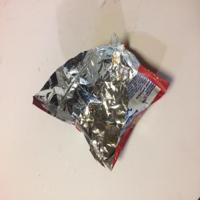plastic: (31, 31, 170, 171)
